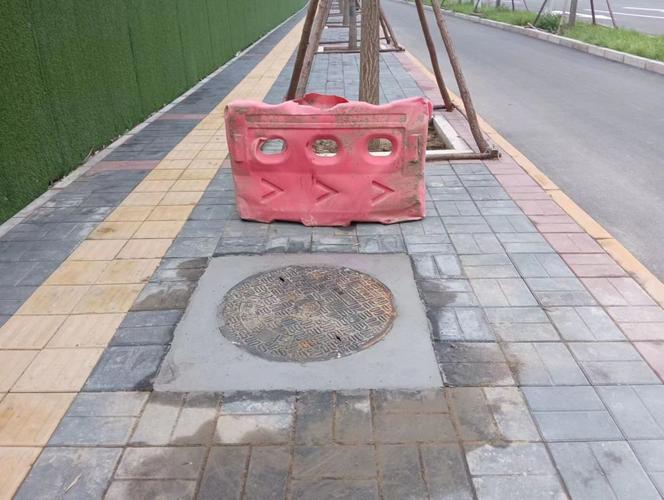good: (170, 241, 450, 414)
